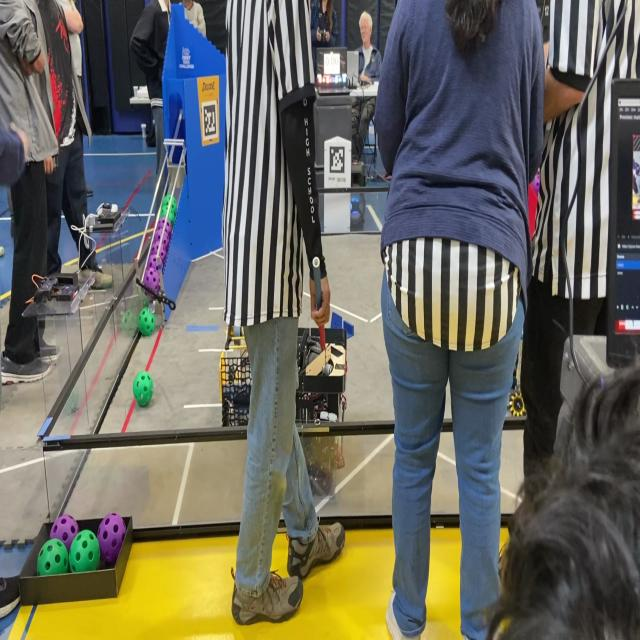artifact_green: (69, 530, 99, 573), (37, 539, 69, 575), (133, 371, 153, 406), (160, 195, 176, 226), (138, 308, 155, 336), (63, 387, 79, 415), (121, 310, 136, 336), (160, 208, 175, 227), (163, 195, 176, 216), (137, 286, 149, 307), (168, 199, 176, 227), (161, 194, 172, 211), (160, 197, 168, 218), (159, 207, 169, 219), (170, 197, 176, 216), (169, 211, 175, 226), (142, 296, 148, 307), (0, 246, 4, 257)
artifact_purple: (98, 514, 125, 564), (50, 514, 79, 551), (154, 219, 172, 244), (143, 267, 160, 293), (150, 242, 166, 264), (156, 219, 172, 235), (154, 231, 169, 248), (148, 255, 163, 271), (532, 173, 540, 195), (150, 240, 159, 256)
